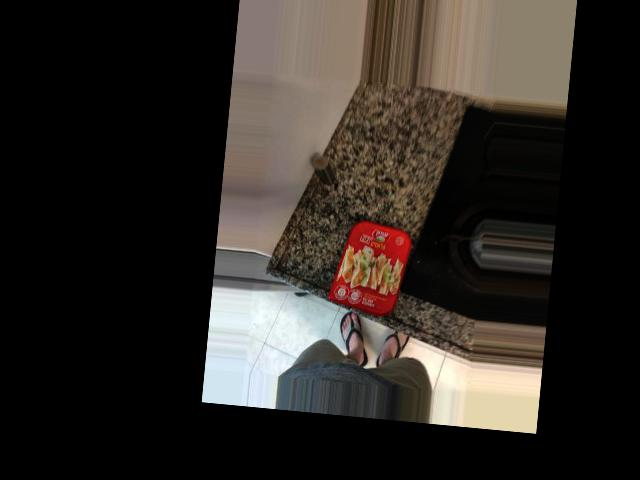cheese: (327, 129, 428, 245)
